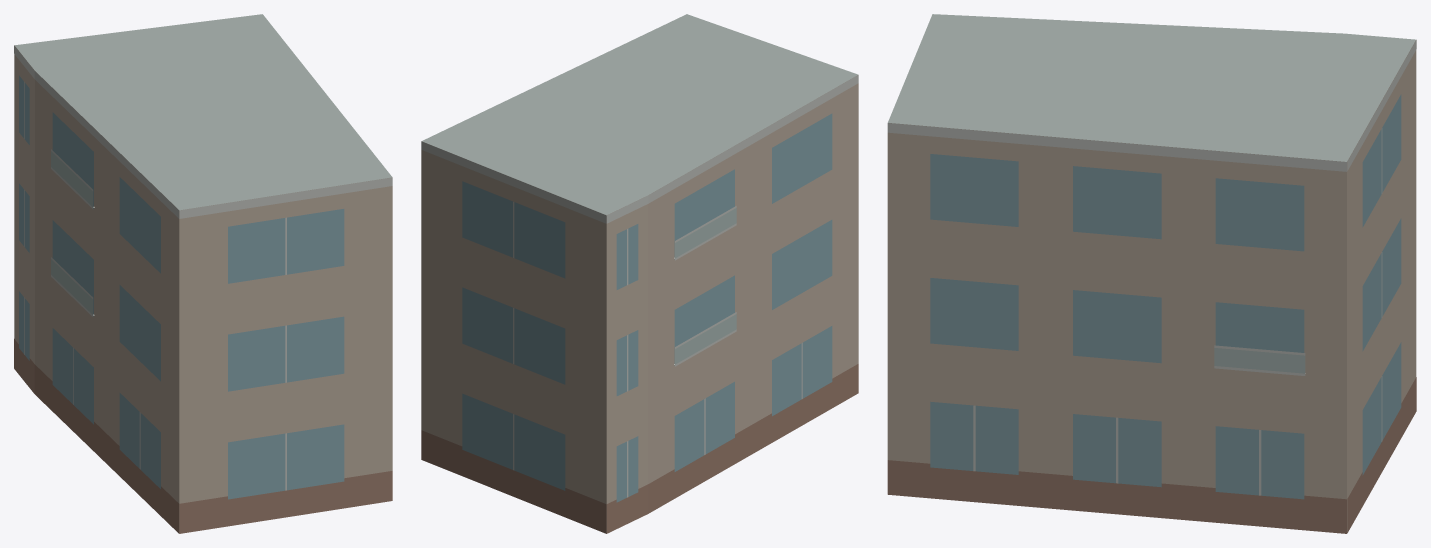
File: survey-upis-32541033.glb
3 views of the same model, side by side, from view 1: azimuth 30°, elevation 25°; view 2: azimuth 150°, elevation 25°; view 3: azimuth 270°, elevation 25° (orthographic). The views are drawn at different scales.
Visible parts, largest first — view 1: survey-upis-32541033.tmp; view 2: survey-upis-32541033.tmp; view 3: survey-upis-32541033.tmp.
Part boxes in pixels (x1,y1,x2,y2): survey-upis-32541033.tmp: [14, 14, 392, 533]; survey-upis-32541033.tmp: [421, 14, 858, 533]; survey-upis-32541033.tmp: [887, 14, 1416, 533].
Bounding box in the file's own units: 7.82 × 9.15 × 11.8.
